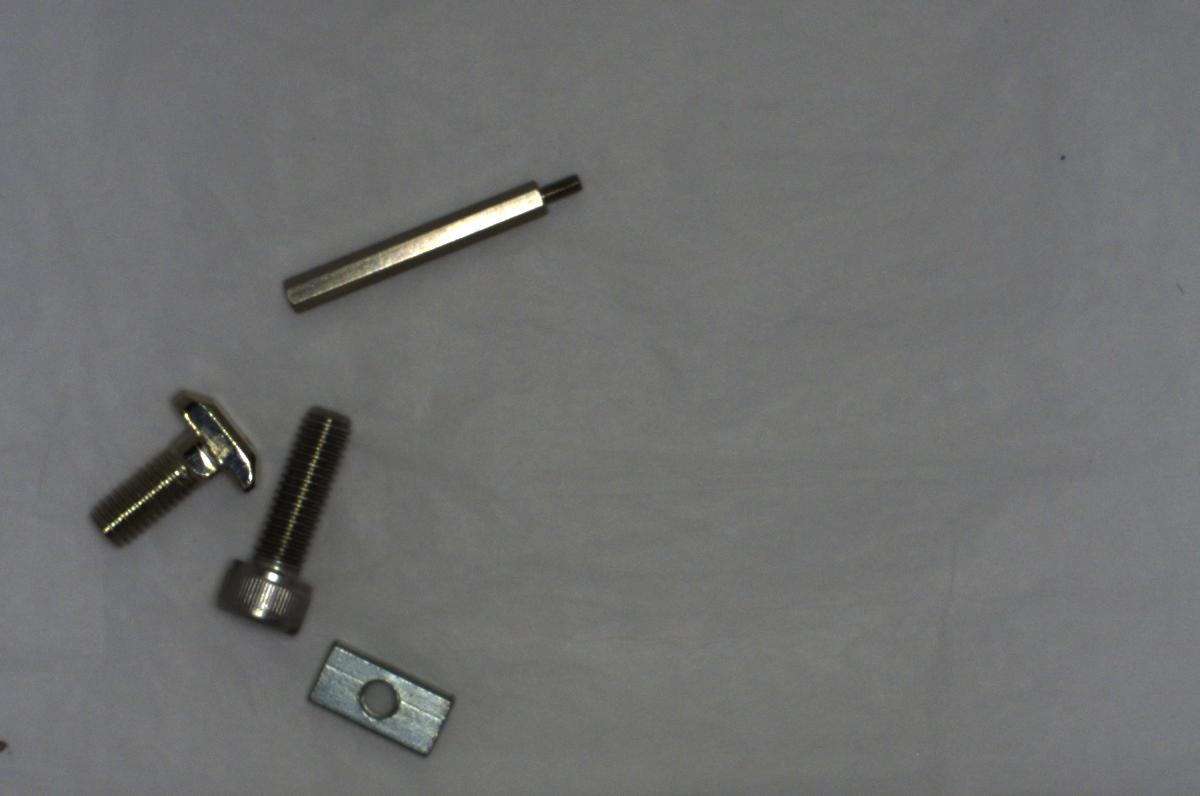Hexagon screw: (207, 405, 341, 638)
Hexagonal steel column: (272, 172, 592, 318)
Rectangular nut: (302, 642, 460, 760)
T-shaped screw: (79, 382, 259, 550)
